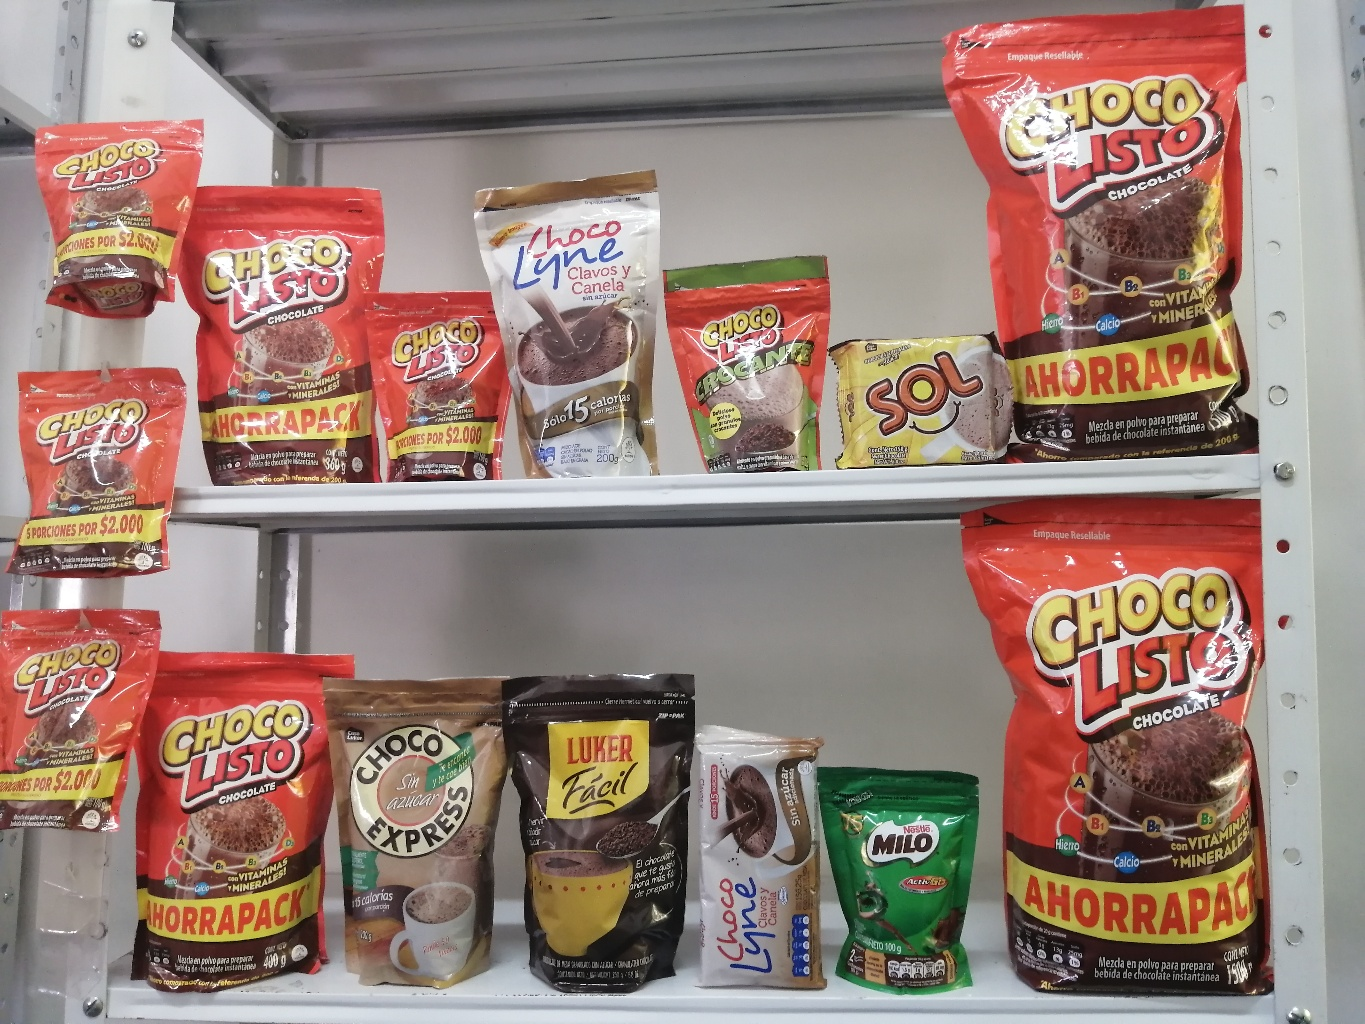COL0170102DYP10000: (662, 239, 828, 468)
COL0170103DYP1,500: (945, 9, 1241, 453)
COL0170103DYP10000: (357, 274, 520, 474)
COL0170103DYP36000: (170, 175, 396, 483)
COL0170103DYP40000: (153, 645, 351, 985)
COL0170203DYP10000: (826, 749, 976, 986)
